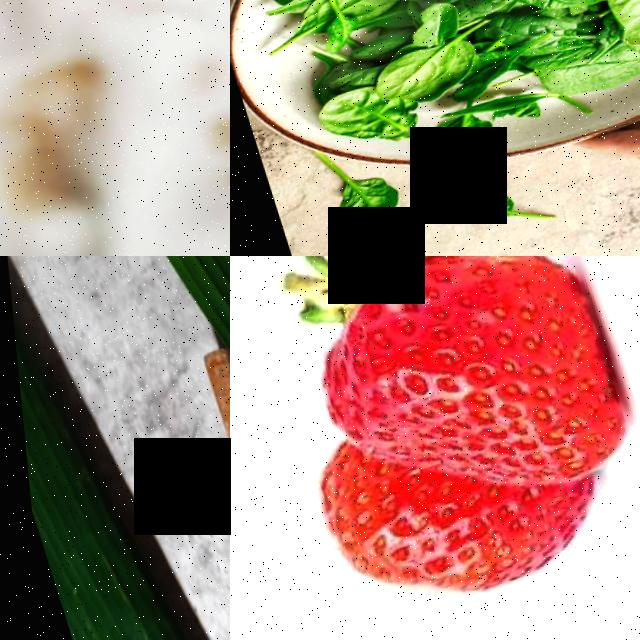spinach: (526, 47, 640, 113), (311, 167, 398, 242), (429, 176, 517, 242), (363, 43, 457, 104), (305, 84, 381, 158), (413, 116, 492, 177), (287, 0, 397, 42), (496, 0, 613, 29)
strawberry: (278, 256, 613, 461), (321, 475, 615, 640)
